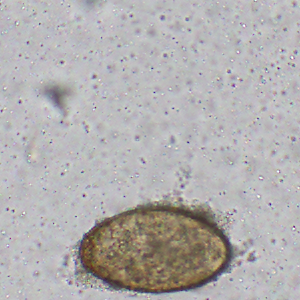Fasciola_hepatica_egg: (77, 205, 233, 293)
